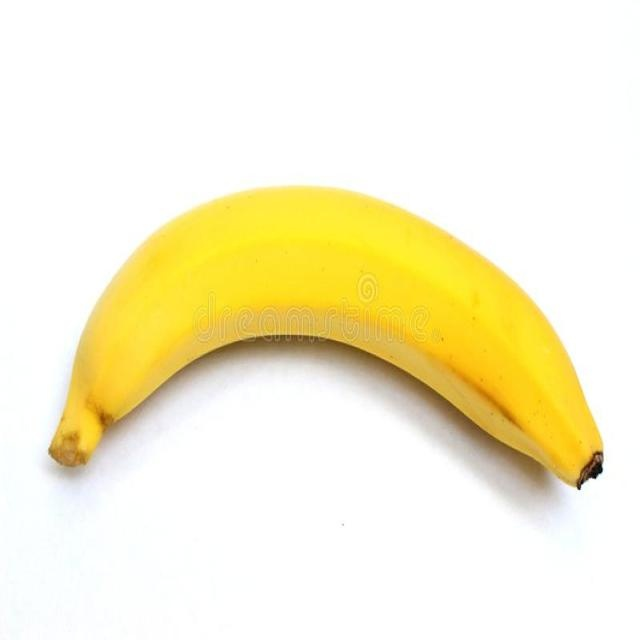agrume: (39, 175, 610, 503)
